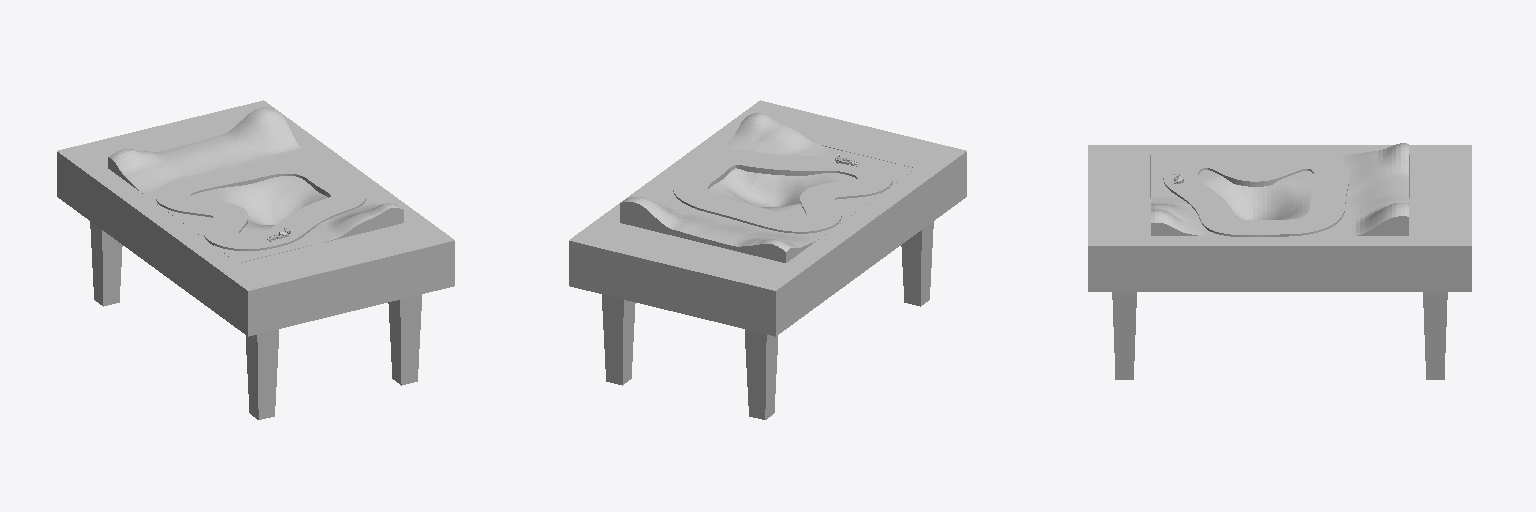
File: NewestTisch55.obj
3 renders of one model, left to right at view 1: azimuth 30°, elevation 25°; view 2: azimuth 150°, elevation 25°; view 3: azimuth 270°, elevation 25°, orthographic.
Parts seen in each view (by area): view 1: Tischplatte_wood_table_001, Landschaft_aerial_grass_rock, off, Bein1_wood_table_001, Bein4_wood_table_001.003, Bein3_wood_table_001.002; view 2: Tischplatte_wood_table_001, Landschaft_aerial_grass_rock, off, Bein2_wood_table_001.001, Bein3_wood_table_001.002, Bein4_wood_table_001.003; view 3: Tischplatte_wood_table_001, Landschaft_aerial_grass_rock, off, Bein1_wood_table_001, Bein2_wood_table_001.001.
Part boxes in pixels (x1,y1,x2,y2): Tischplatte_wood_table_001: (57,100,454,336); Landschaft_aerial_grass_rock: (108,107,403,262); off: (156,159,365,250); Bein1_wood_table_001: (388,294,421,385); Bein4_wood_table_001.003: (246,329,278,419); Bein3_wood_table_001.002: (90,221,122,306); Tischplatte_wood_table_001: (569,100,966,336); Landschaft_aerial_grass_rock: (620,113,915,262); off: (673,150,892,233); Bein2_wood_table_001.001: (602,294,635,385); Bein3_wood_table_001.002: (745,329,777,419); Bein4_wood_table_001.003: (901,221,933,306); Tischplatte_wood_table_001: (1088,145,1471,291); Landschaft_aerial_grass_rock: (1151,143,1408,235); off: (1163,153,1348,236); Bein1_wood_table_001: (1112,292,1136,379); Bein2_wood_table_001.001: (1423,292,1447,379).
Size of the model in its own units: 5 by 3.91 by 8.